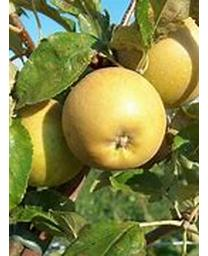apple: (62, 67, 166, 172), (117, 17, 198, 109), (16, 99, 85, 188)
